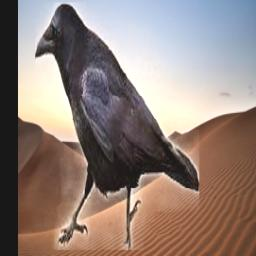Crow: (35, 2, 199, 250)
